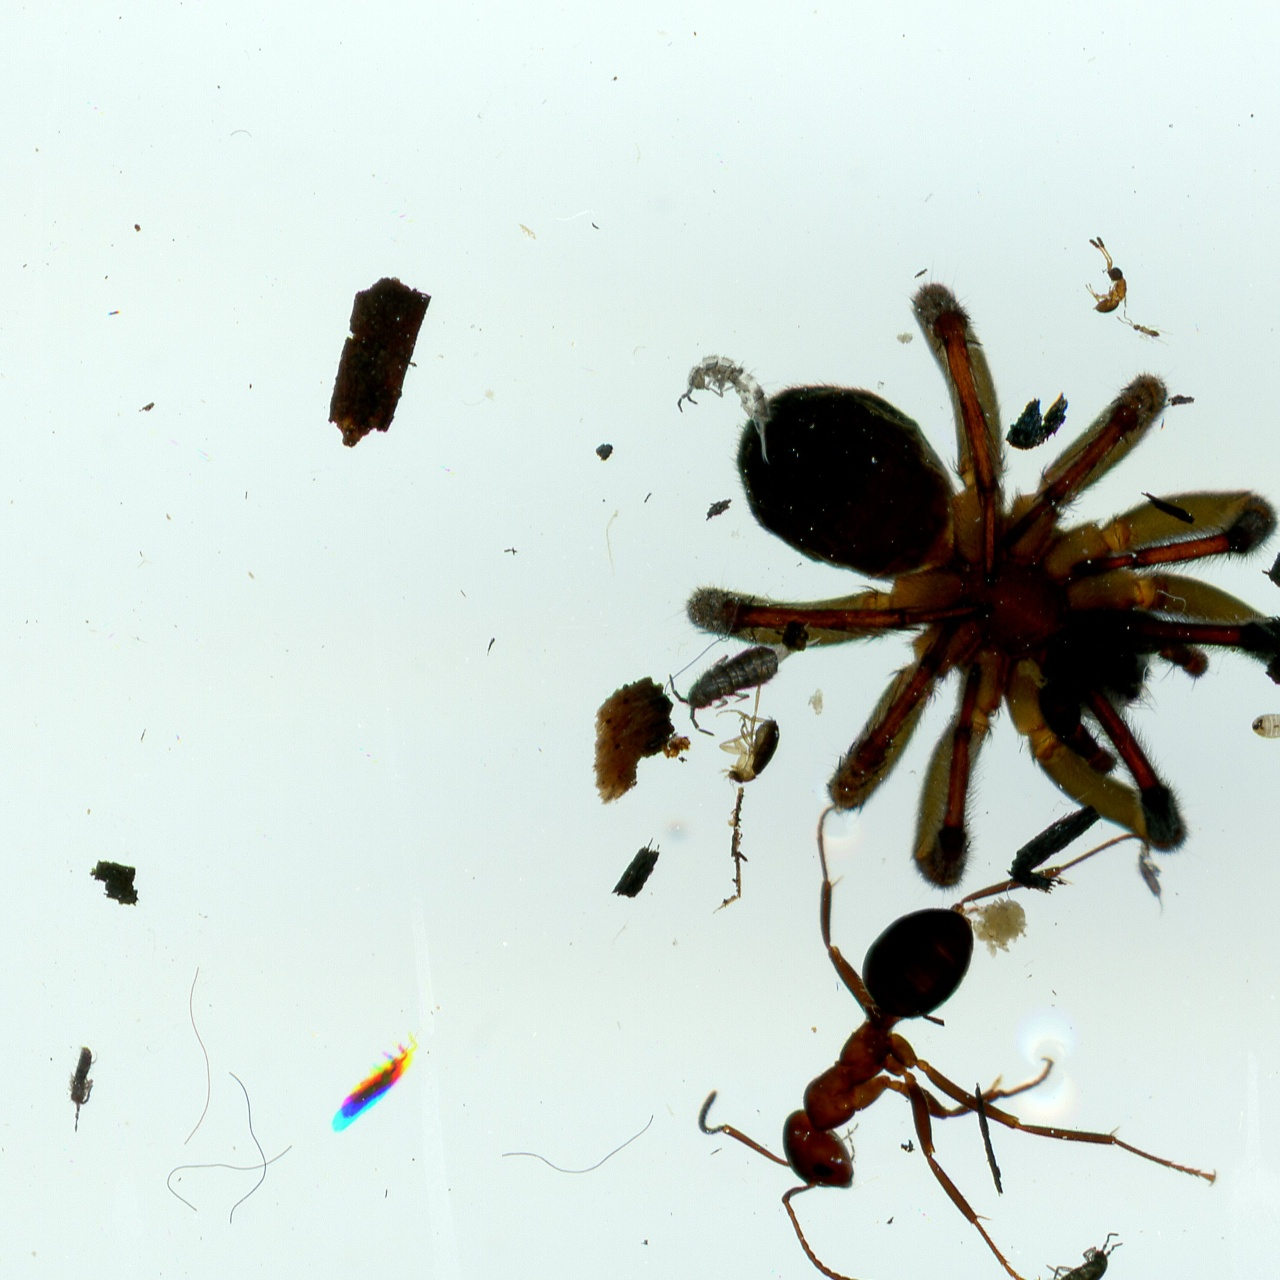arthropod: (656, 244, 1280, 898), (694, 803, 1224, 1280), (659, 612, 837, 748), (305, 1013, 448, 1155), (672, 347, 781, 468), (1014, 1207, 1141, 1280), (717, 682, 782, 798), (59, 1028, 104, 1136), (1081, 232, 1129, 315), (1128, 840, 1171, 917), (1114, 306, 1178, 350), (1251, 695, 1280, 748)
